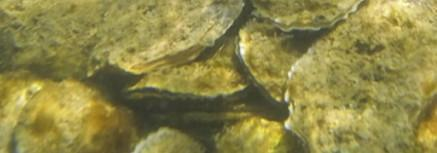3: (284, 0, 437, 153), (122, 14, 251, 100), (252, 0, 362, 33)
Oyster-Closed: (88, 0, 247, 80), (239, 15, 335, 109), (417, 99, 437, 153)
Oyster-Open: (0, 0, 121, 82), (8, 81, 140, 153), (0, 69, 59, 153), (220, 116, 299, 153), (130, 126, 204, 153)
